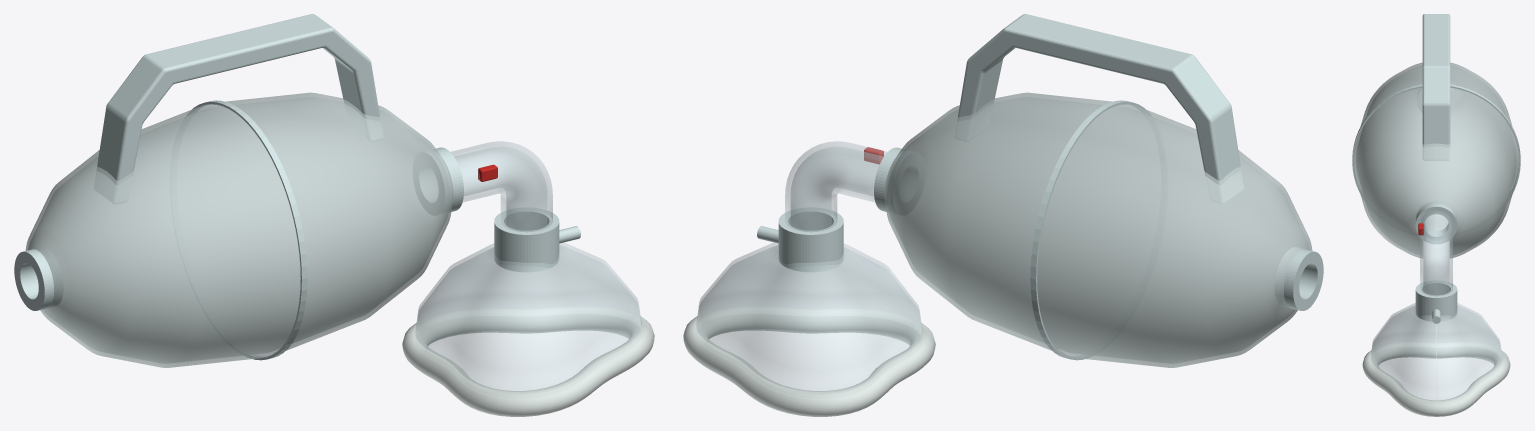
File: full.glb
The picture shows the model from 3 angles, left to right: view 1: azimuth 30°, elevation 25°; view 2: azimuth 150°, elevation 25°; view 3: azimuth 270°, elevation 25°; orthographic projection. The views are drawn at different scales.
Parts seen in each view (by area): view 1: Pale hollow bag shell, Low rounded triangular mask dome, Upper arch hand strap, Pale full cushion rim generic occluded sector, Clear curved external connector, Mask vertical socket, Front bag captured collar, Rear bag exterior collar, Shallow bag middle seam; view 2: Pale hollow bag shell, Low rounded triangular mask dome, Upper arch hand strap, Pale full cushion rim generic occluded sector, Clear curved external connector, Mask vertical socket, Front bag captured collar, Rear bag exterior collar, Shallow bag middle seam; view 3: Pale hollow bag shell, Low rounded triangular mask dome, Pale full cushion rim generic occluded sector, Upper arch hand strap, Clear curved external connector, Mask vertical socket, Front bag captured collar, Shallow bag middle seam, Rear bag exterior collar.
Part boxes in pixels (box(x1,y1,x2,y2)): Pale hollow bag shell: box(25, 92, 453, 367); Low rounded triangular mask dome: box(415, 243, 641, 391); Upper arch hand strap: box(94, 14, 382, 203); Pale full cushion rim generic occluded sector: box(402, 306, 654, 416); Clear curved external connector: box(451, 141, 552, 231); Mask vertical socket: box(494, 207, 559, 272); Front bag captured collar: box(413, 147, 463, 215); Rear bag exterior collar: box(14, 247, 62, 310); Shallow bag middle seam: box(187, 100, 307, 360); Pale hollow bag shell: box(884, 92, 1312, 367); Low rounded triangular mask dome: box(696, 243, 922, 391); Upper arch hand strap: box(955, 14, 1243, 203); Pale full cushion rim generic occluded sector: box(683, 306, 935, 416); Clear curved external connector: box(785, 141, 886, 231); Mask vertical socket: box(778, 207, 843, 272); Front bag captured collar: box(874, 147, 924, 215); Rear bag exterior collar: box(1275, 247, 1323, 310); Shallow bag middle seam: box(1030, 100, 1150, 360); Pale hollow bag shell: box(1353, 62, 1519, 258); Low rounded triangular mask dome: box(1371, 303, 1501, 400); Pale full cushion rim generic occluded sector: box(1362, 342, 1510, 416); Upper arch hand strap: box(1422, 14, 1450, 159); Clear curved external connector: box(1420, 211, 1452, 295); Mask vertical socket: box(1415, 280, 1457, 321); Front bag captured collar: box(1415, 201, 1457, 243); Shallow bag middle seam: box(1352, 84, 1520, 200); Rear bag exterior collar: box(1417, 88, 1455, 111).
Bounding box in the file's own units: 0.3282 × 0.201 × 0.1216.
